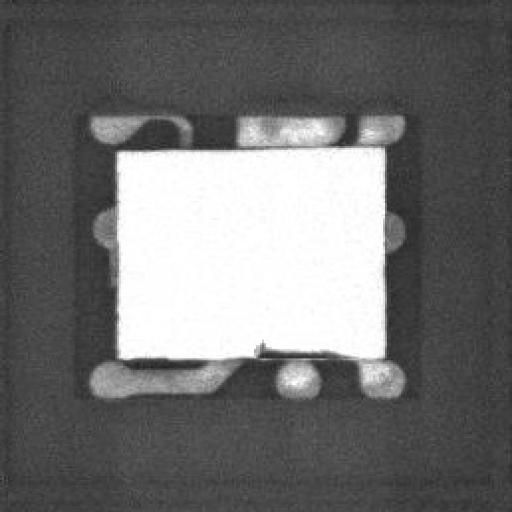DIE_BROKEN: (252, 340, 345, 358)
